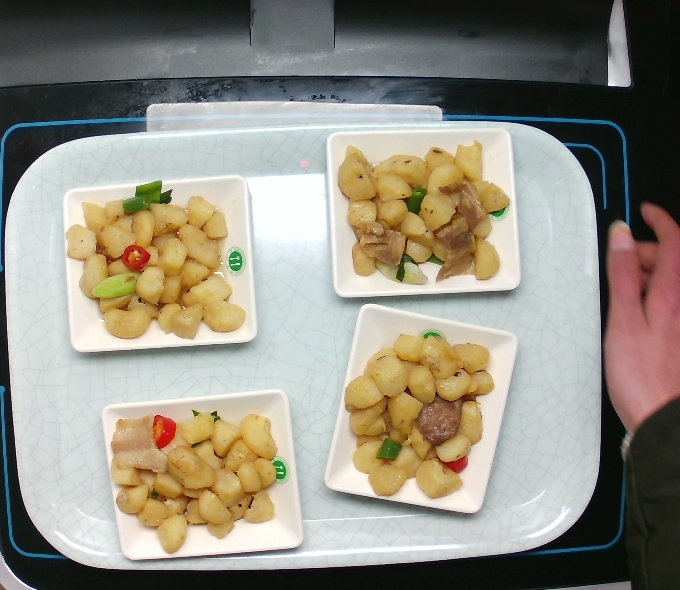wcq-MaTiGuoChaoRou: (102, 397, 282, 558), (64, 187, 244, 348), (338, 130, 517, 291), (342, 328, 493, 507)
